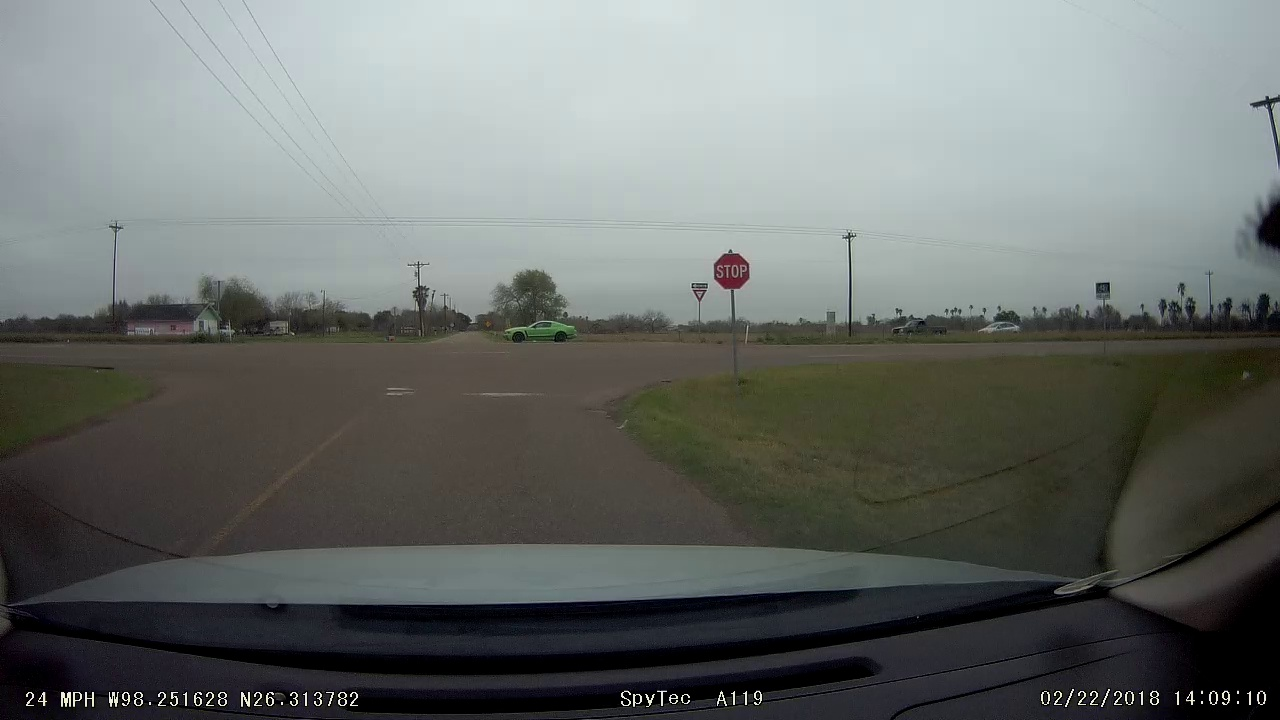blurredLine: (397, 383, 581, 403)
